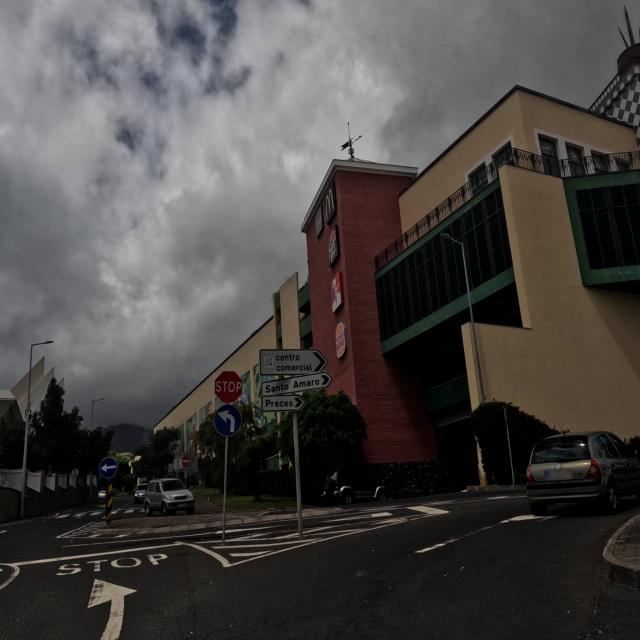car: (525, 430, 640, 515), (321, 473, 391, 504), (144, 478, 195, 516), (133, 484, 149, 504)
